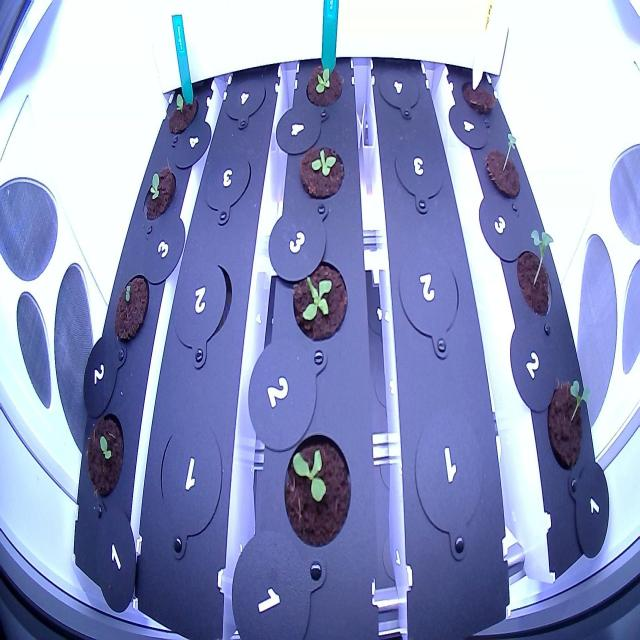empty_pod: (410, 402, 490, 565), (155, 405, 227, 569), (395, 235, 465, 368), (169, 248, 234, 370), (390, 122, 449, 220), (200, 146, 256, 232), (374, 54, 426, 128), (221, 70, 267, 136)
germination: (547, 361, 599, 480), (514, 217, 558, 330), (84, 400, 129, 504), (110, 262, 153, 346), (484, 126, 522, 206), (140, 156, 178, 225), (165, 87, 199, 145)
pod: (458, 69, 499, 116)
young: (274, 422, 355, 558), (286, 248, 350, 340), (297, 139, 347, 203), (304, 54, 344, 114)
